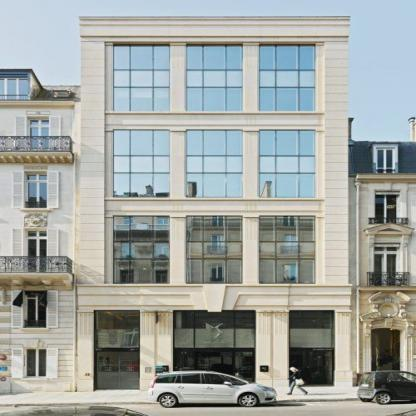Building Outline: (76, 16, 353, 392)
Door: (175, 351, 255, 387)
Facade: (76, 16, 354, 392)
Floor Slab: (78, 287, 351, 299), (81, 113, 349, 124), (81, 199, 349, 210)
Glass Wall: (258, 215, 316, 283), (258, 130, 316, 198), (113, 215, 169, 283), (186, 215, 242, 283), (113, 130, 169, 198), (186, 130, 242, 198), (259, 44, 315, 111), (113, 44, 169, 111), (186, 44, 242, 111)
Window: (175, 311, 255, 347), (95, 351, 140, 389), (95, 311, 140, 347), (289, 311, 334, 347), (289, 351, 334, 385)
